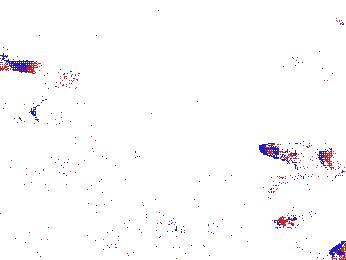X-ray fish: (281, 50, 343, 93), (119, 212, 186, 243)
red belly glassfish: (276, 208, 318, 228), (201, 216, 229, 236)
redtail glassfish: (268, 163, 346, 195), (259, 139, 333, 168), (30, 66, 83, 90)
